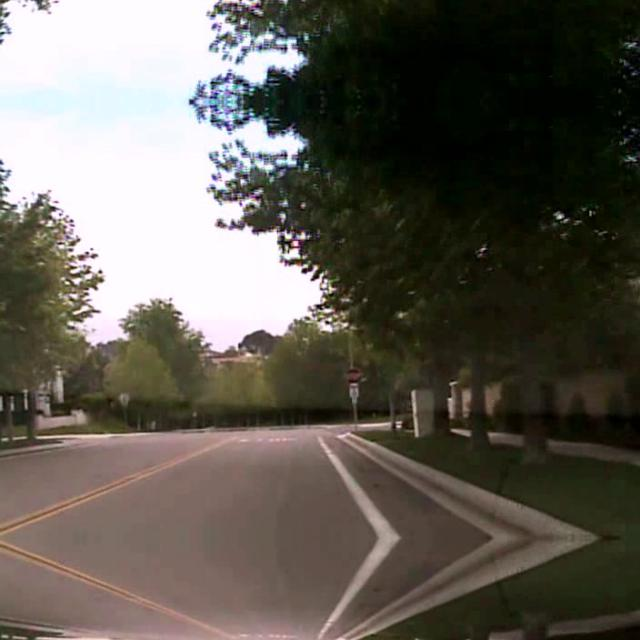stop: (344, 366, 362, 382)
